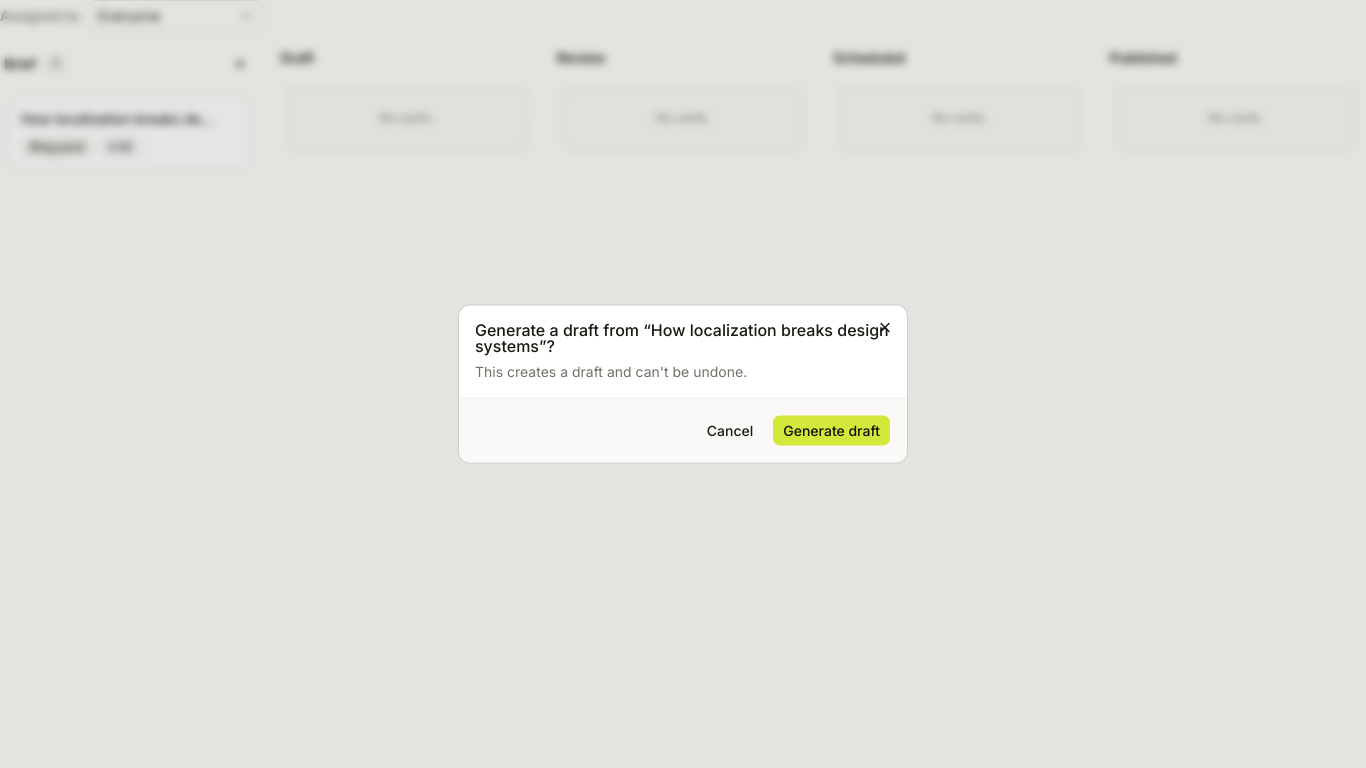
the board's drop onto Draft, into the modal › offers Open draft only once the run has landed, pointing at the new piece
Click the button "Generate draft" at [832, 430], box [772, 414, 891, 446]
Wait 3000 ms
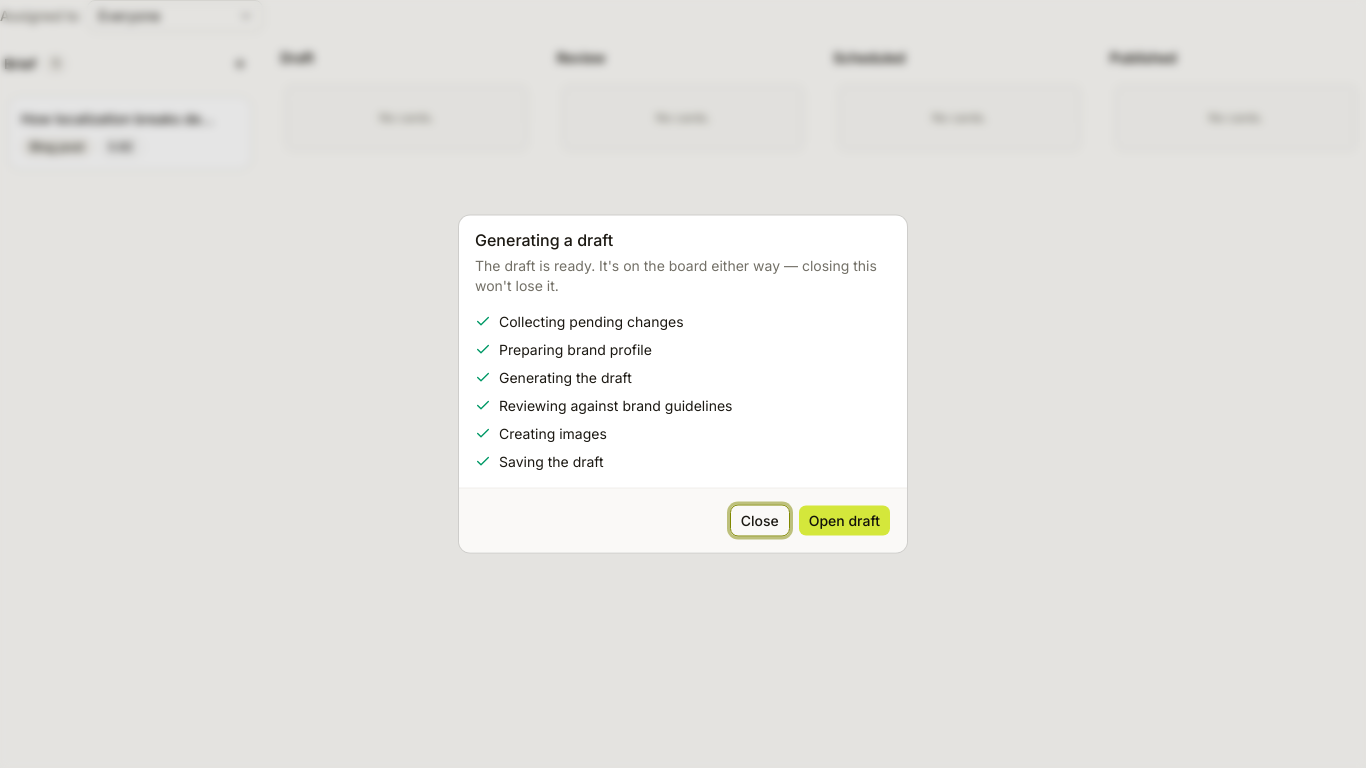
Check: the button "Close" is shown, box [730, 504, 790, 536]
